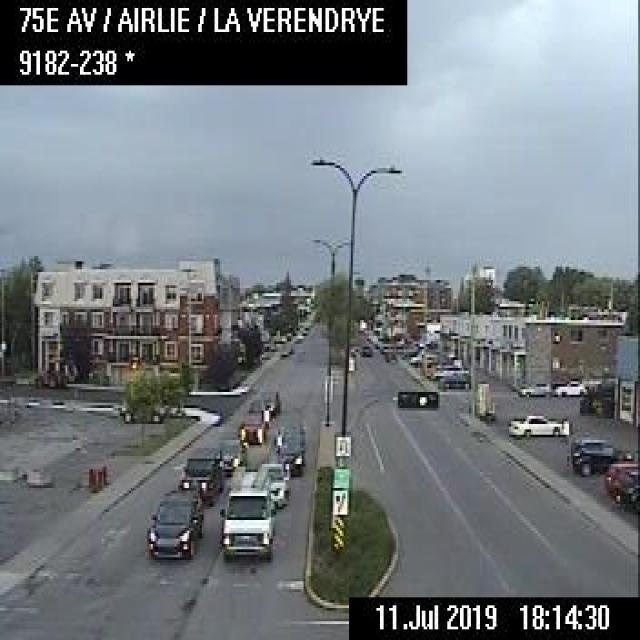construction: (101, 463, 107, 484), (91, 467, 96, 491), (96, 466, 101, 488), (87, 466, 92, 488)
vehicle: (215, 460, 276, 558), (144, 488, 201, 560), (176, 444, 221, 505), (570, 435, 632, 475), (506, 411, 569, 436), (256, 457, 288, 504), (602, 460, 638, 494), (214, 435, 245, 472), (234, 408, 264, 443), (118, 400, 163, 422), (275, 440, 303, 474), (551, 376, 585, 397), (259, 385, 280, 413), (517, 380, 551, 397), (439, 370, 470, 388), (247, 397, 269, 422), (433, 362, 468, 375), (408, 352, 434, 364), (383, 349, 396, 363), (360, 342, 372, 356), (378, 342, 388, 352), (278, 348, 288, 358), (284, 344, 293, 354)
